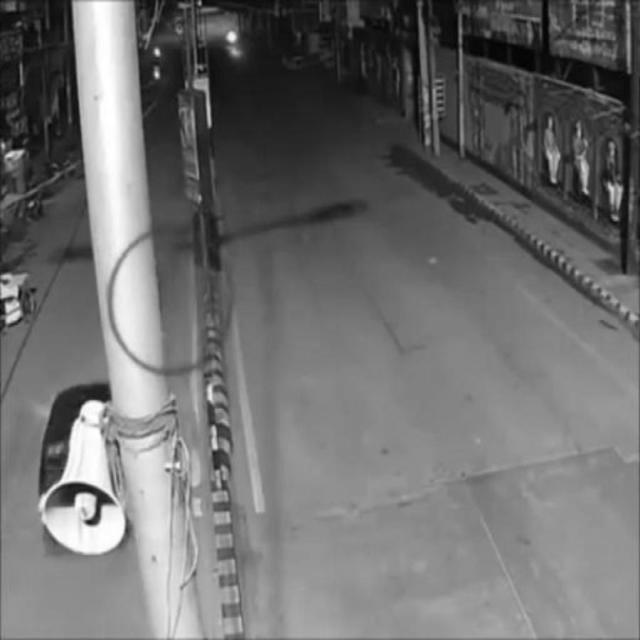vehicle: (38, 372, 121, 548)
